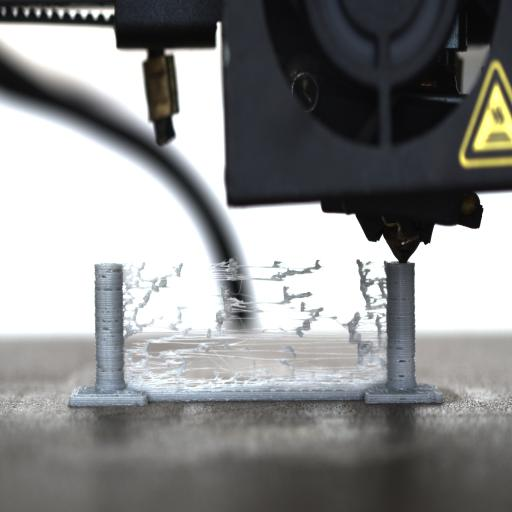stringing: (122, 260, 387, 398)
